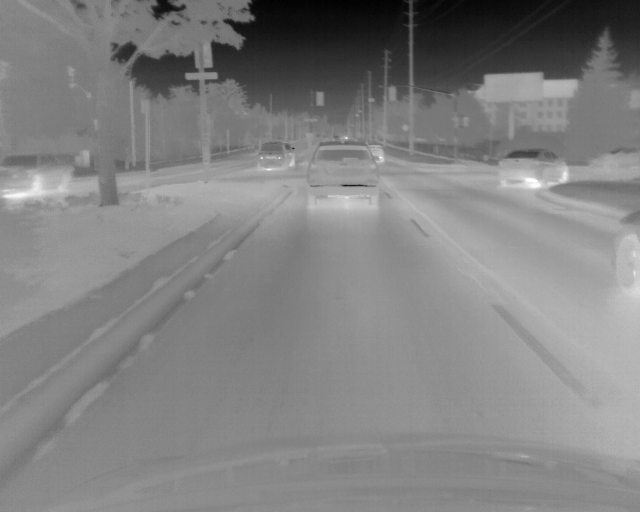car: (306, 141, 380, 209), (609, 206, 640, 297), (497, 150, 569, 186), (258, 141, 288, 169), (369, 141, 386, 163), (287, 144, 297, 169)
